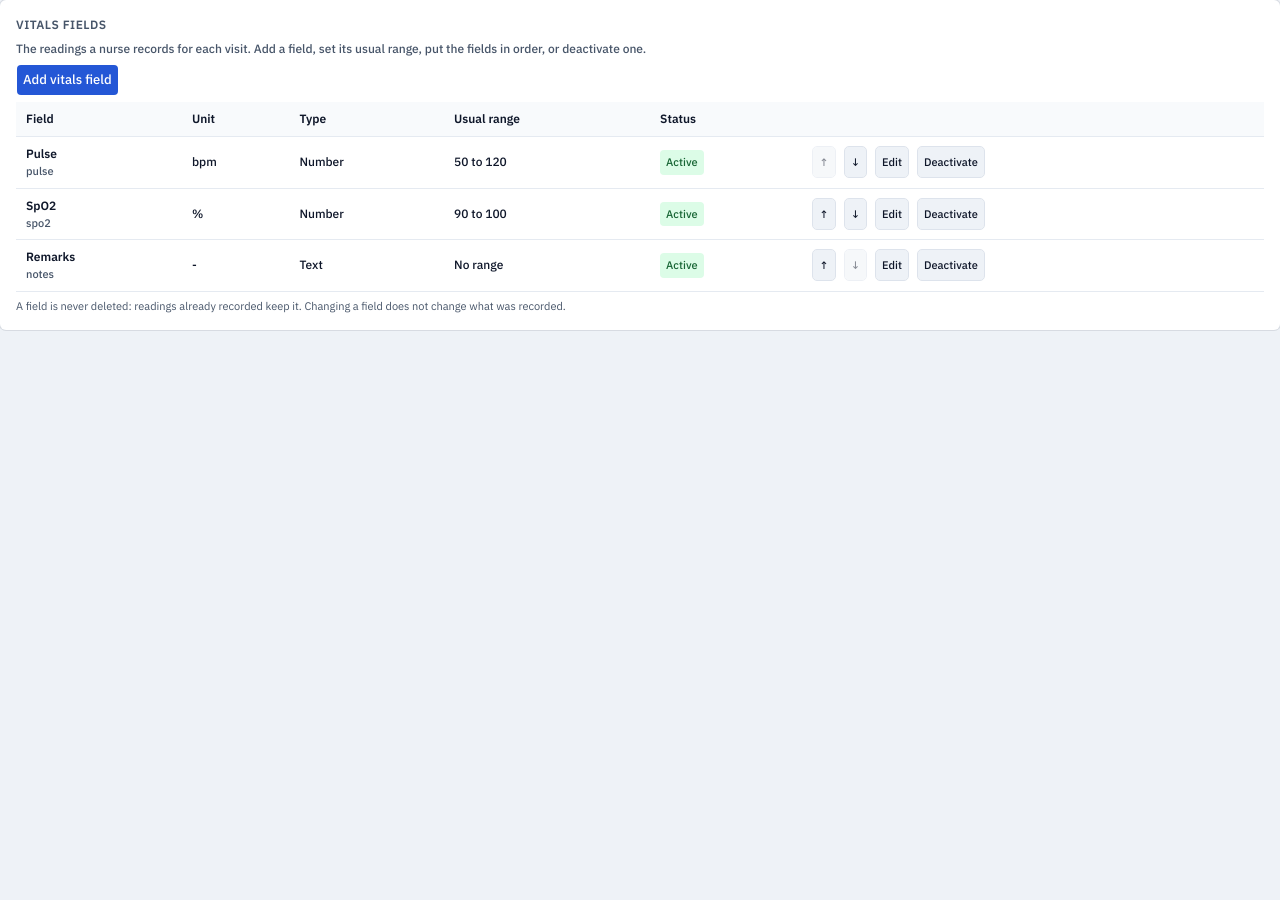
Scenario: VitalsFieldsScreen › a limit that is not a number is refused before anything is sent
Click the button "Edit" in the row of "bpm" at x=892, y=162, box [875,146,909,178]
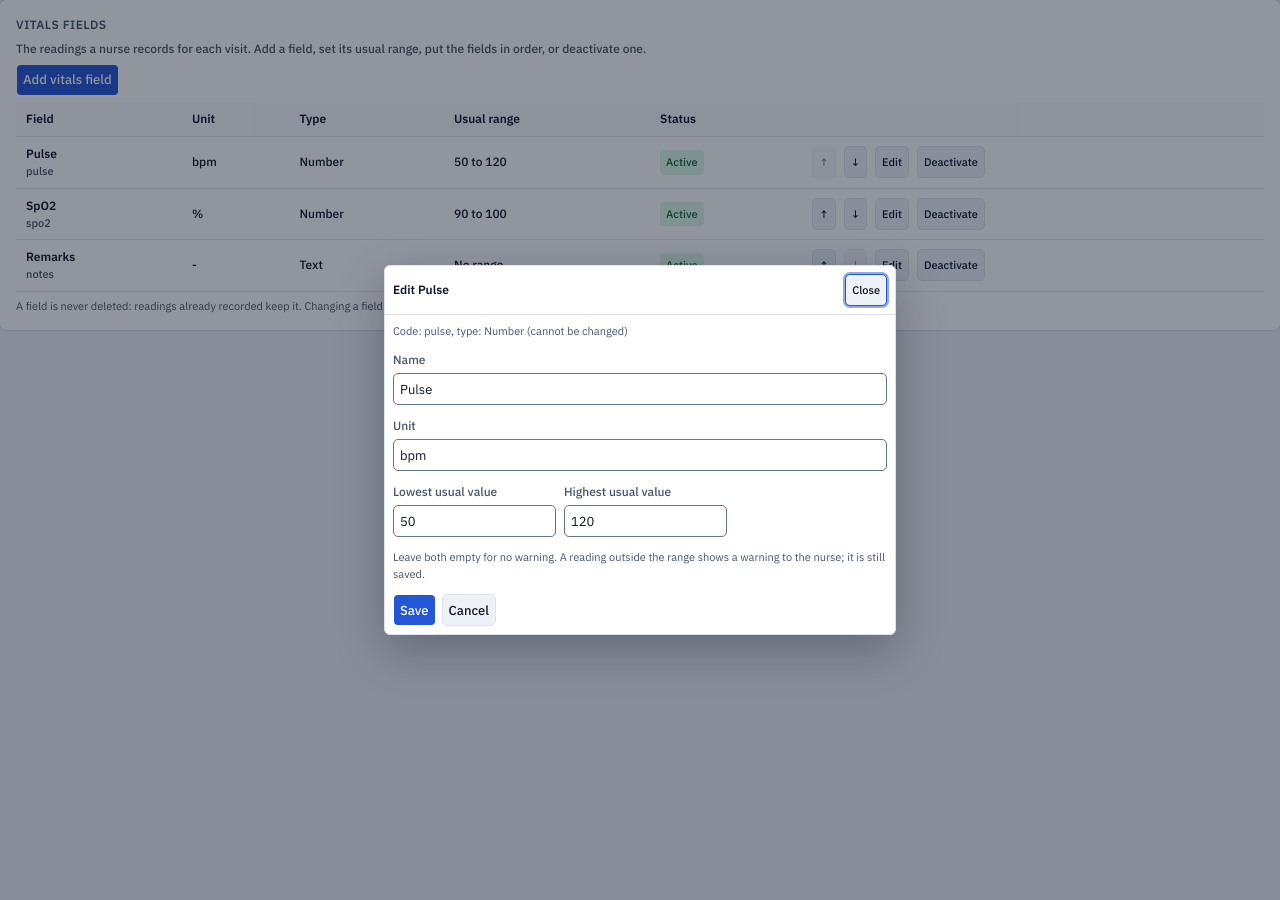
Replace the text in the field labelled "Lowest usual value" with "abc" at x=474, y=521, box [393,505,556,537]
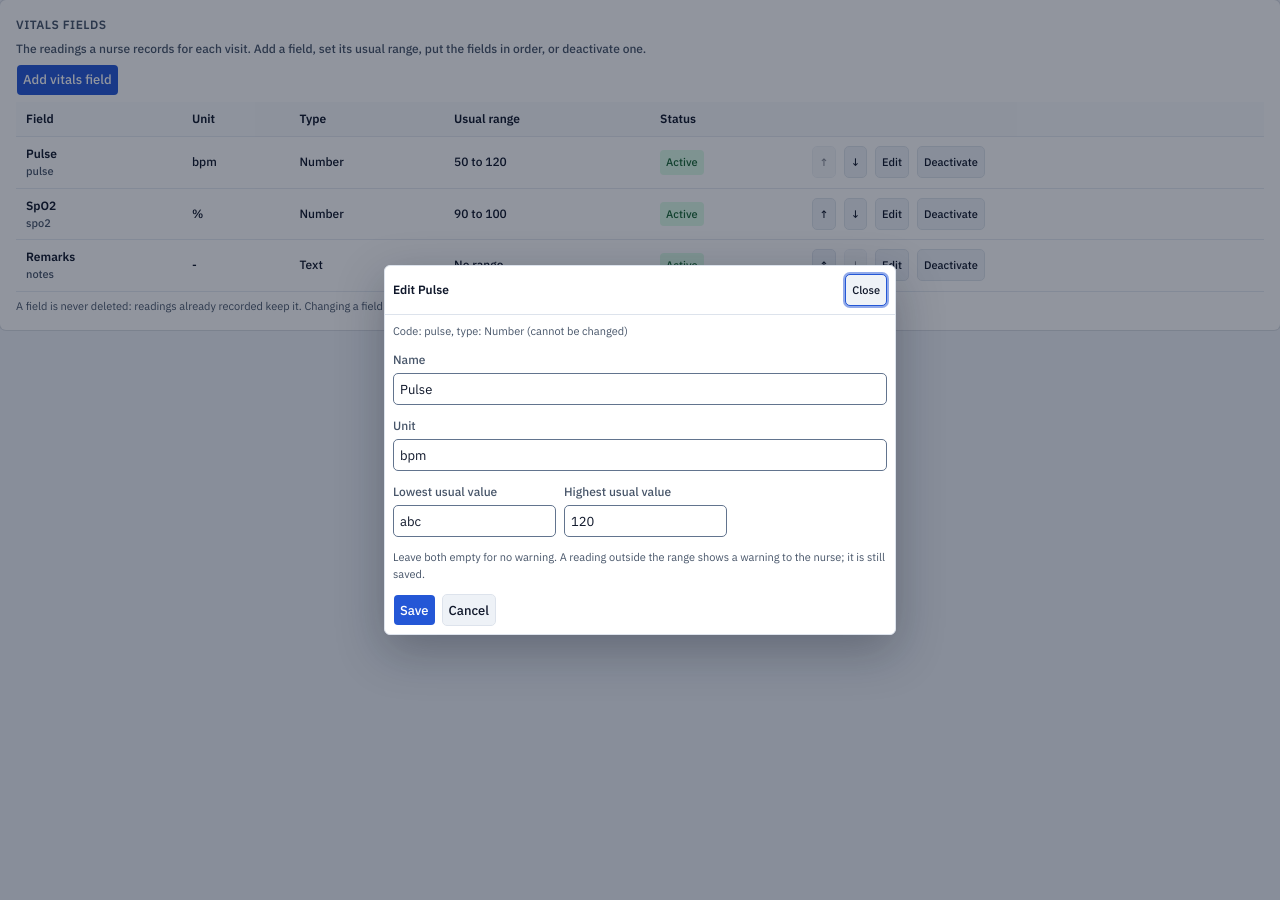
Click the button "Save" at x=414, y=610, box [393,594,436,626]
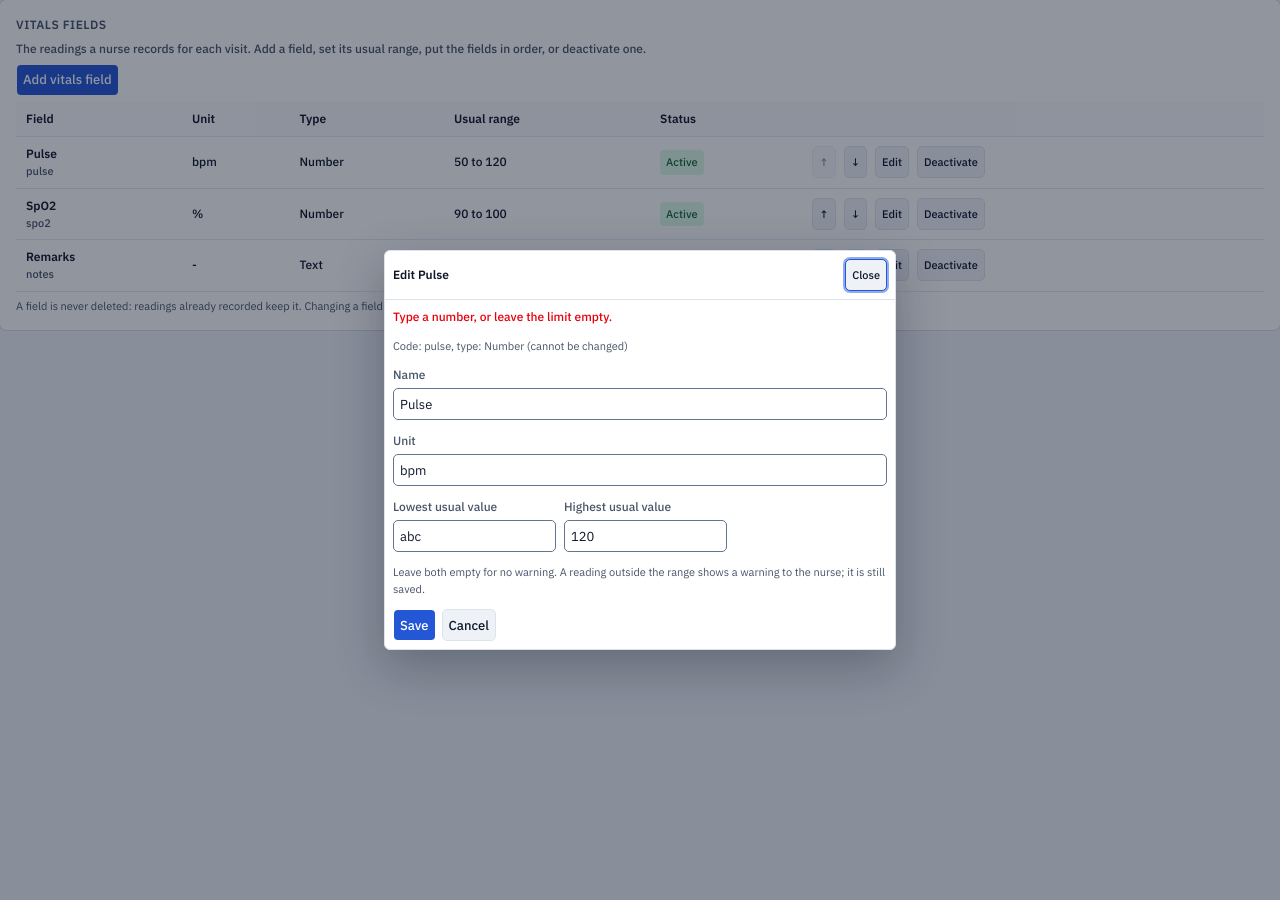
Check: the message reads "Type a number, or leave the limit empty.", box [393,309,612,324]
